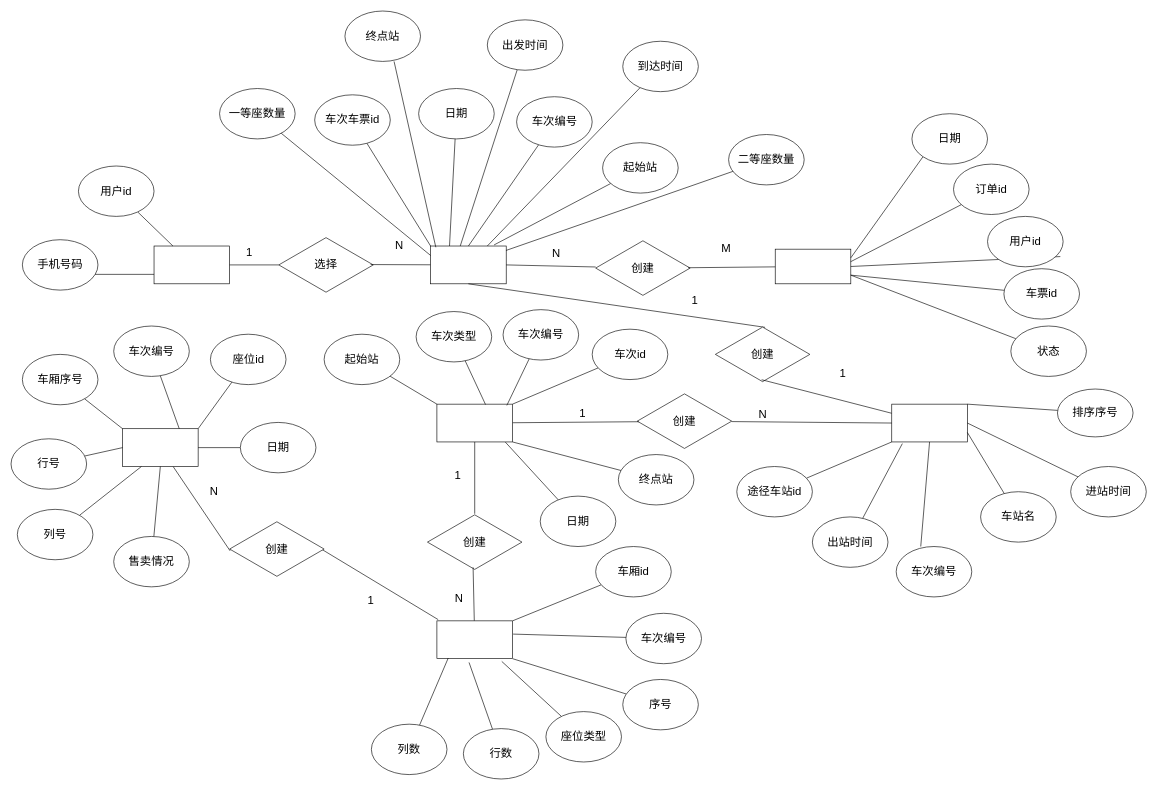
Image size: 1157x790. Some labels were removed from this diagram. The centre of each missing label's shape, as x and y in pixels:
座位: pixel 160 447
用户: pixel 191 264
订单: pixel 813 266
车厢: pixel 474 639
车次: pixel 474 423
车次车票: pixel 468 264
途径车站: pixel 929 423
